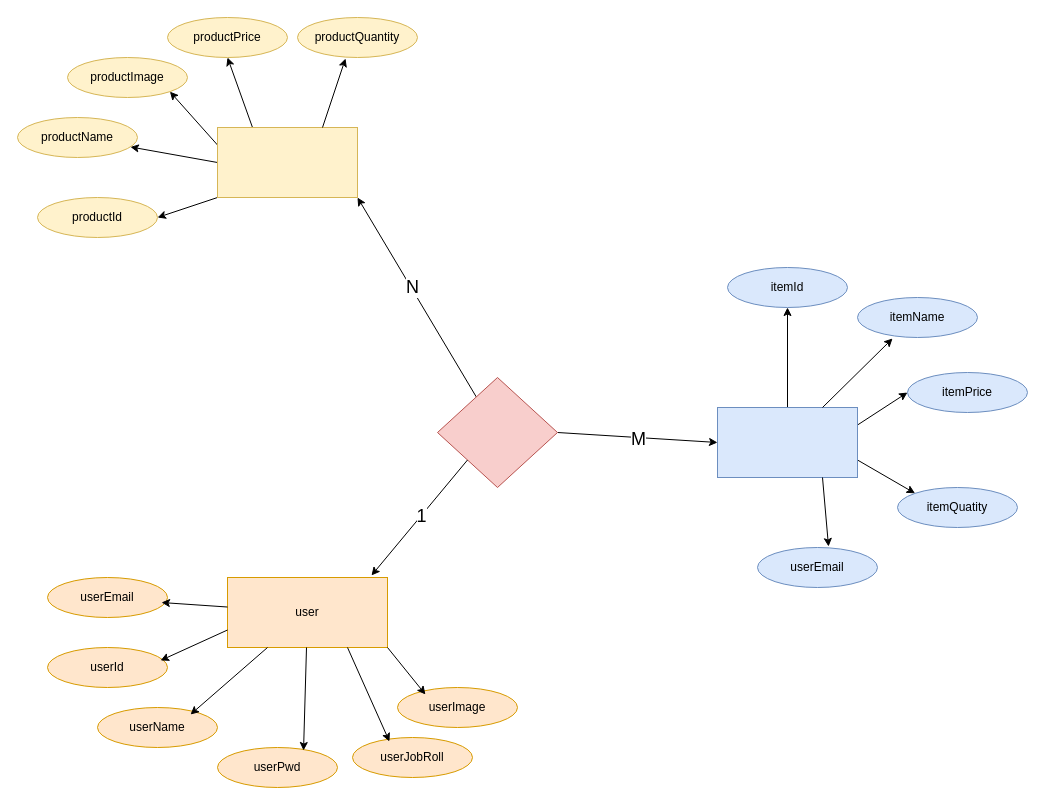
The diagram is 1045 pixels wide and 805 high, and some of its shapes have lost their labels. The centre of each missing label's shape, as x and y in pixels:
"cart" goes at (x=787, y=442).
"Insert/update/ delete" goes at (x=497, y=432).
"product" goes at (x=287, y=162).
